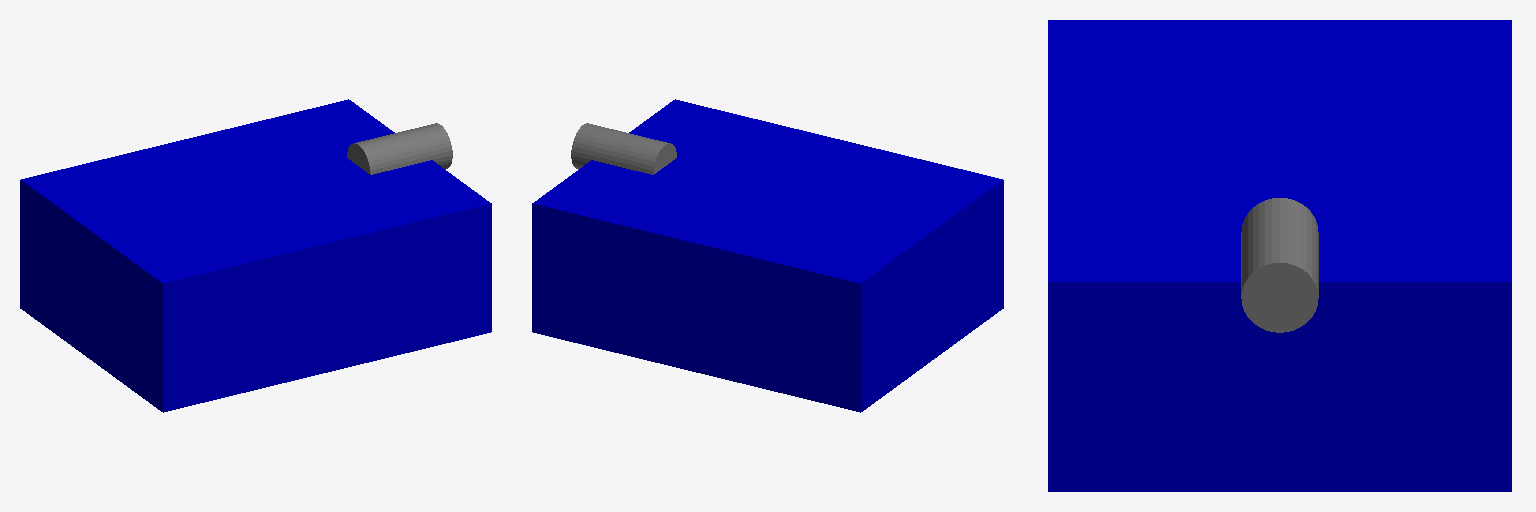
robot.urdf — axiom_rover:
<?xml version="1.0"?>
<robot name="axiom_rover" xmlns:xacro="http://www.ros.org/wiki/xacro">

  <!-- Base Link -->
  <link name="base_link">
    <visual>
      <geometry>
        <box size="0.8 0.6 0.3"/>
      </geometry>
      <material name="blue">
        <color rgba="0 0 0.8 1"/>
      </material>
    </visual>
    <collision>
      <geometry>
        <box size="0.8 0.6 0.3"/>
      </geometry>
    </collision>
  </link>

  <!-- Winch Drum (Simplified) -->
  <link name="winch_drum">
    <visual>
      <geometry>
        <cylinder length="0.2" radius="0.05"/>
      </geometry>
      <material name="grey">
        <color rgba="0.5 0.5 0.5 1"/>
      </material>
    </visual>
  </link>

  <joint name="winch_joint" type="continuous">
    <parent link="base_link"/>
    <child link="winch_drum"/>
    <origin xyz="0.35 0 0.15" rpy="0 1.57 0"/>
    <axis xyz="0 0 1"/>
  </joint>

  <!-- Wheels would go here... -->

</robot>

--- What the picture shows (computed from the rendered views, not written in the file) ---
The picture shows the robot from 3 angles, left to right: view 1: azimuth 30°, elevation 25°; view 2: azimuth 150°, elevation 25°; view 3: azimuth 270°, elevation 25°; orthographic projection.
Robot: axiom_rover — 2 links, 1 joints (1 continuous); root link base_link; default pose: every joint at zero.
Links seen in each view (by area): view 1: base_link, winch_drum; view 2: base_link, winch_drum; view 3: base_link, winch_drum.
Link boxes in pixels (x1,y1,x2,y2): base_link: (20,99,491,412); winch_drum: (347,123,452,174); base_link: (532,99,1003,412); winch_drum: (571,123,676,174); base_link: (1048,20,1511,491); winch_drum: (1241,198,1318,332).
Bounding box of the posed robot: 0.85 × 0.6 × 0.3501 m (x, y, z).
Geometry: primitives only (box / cylinder / sphere), no mesh files.
